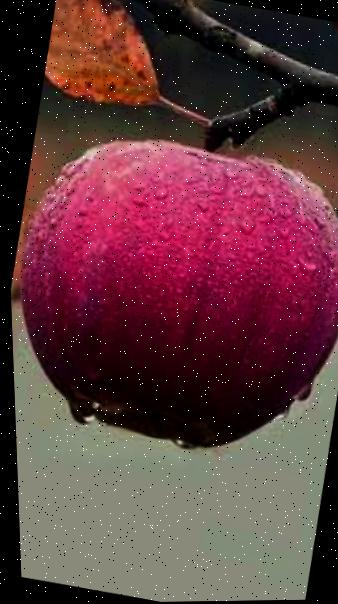HEALTHY: (3, 76, 338, 491)
